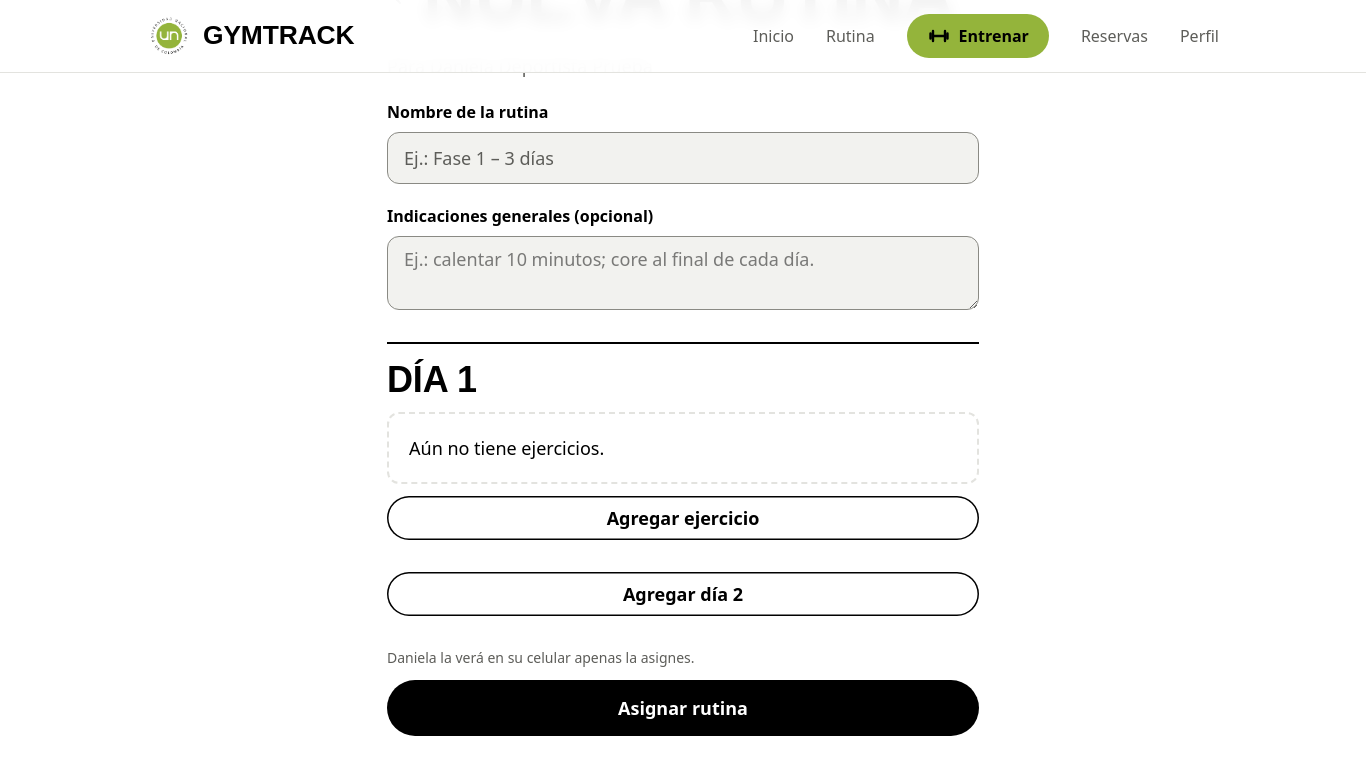
Scenario: armar y asignar una rutina (GYMM-21) › valida antes de enviar: nombre, días vacíos y series fuera de rango
(page scrolled)
Expected: the field labelled "Nombre de la rutina" is shown, x1=388 y1=136 x2=978 y2=180
Click the button "Asignar rutina": x=683, y=708 x1=387 y1=680 x2=979 y2=736
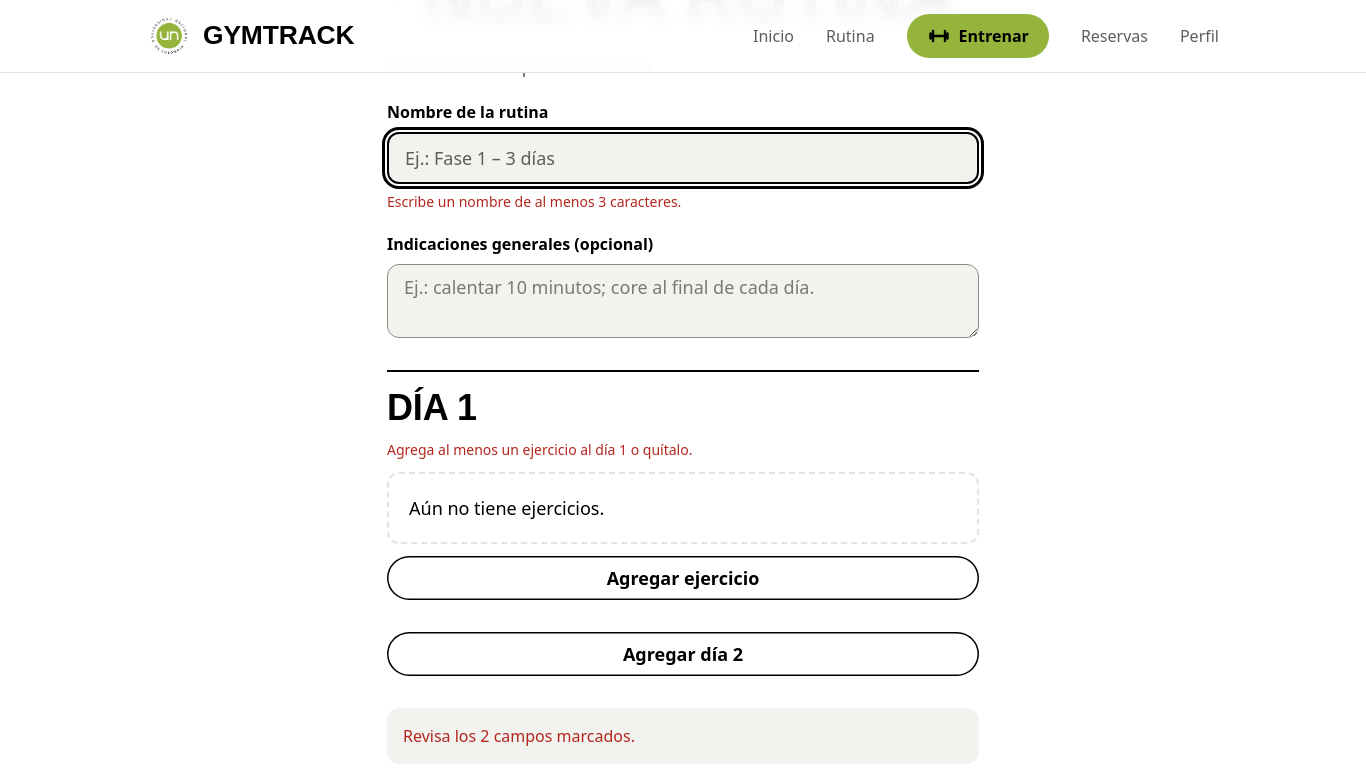
Result: the text "Escribe un nombre de al menos 3 caracteres." is shown at x1=387 y1=192 x2=681 y2=211
Result: the text "Agrega al menos un ejercicio al día 1 o quítalo." is shown at x1=387 y1=440 x2=692 y2=459
In the field labelled "Nombre de la rutina": x=683, y=158 x1=389 y1=136 x2=977 y2=180, type "Fase 1"
Click the button with aria-label "Agregar ejercicio al día 1": x=683, y=578 x1=387 y1=556 x2=979 y2=600
(page scrolled)
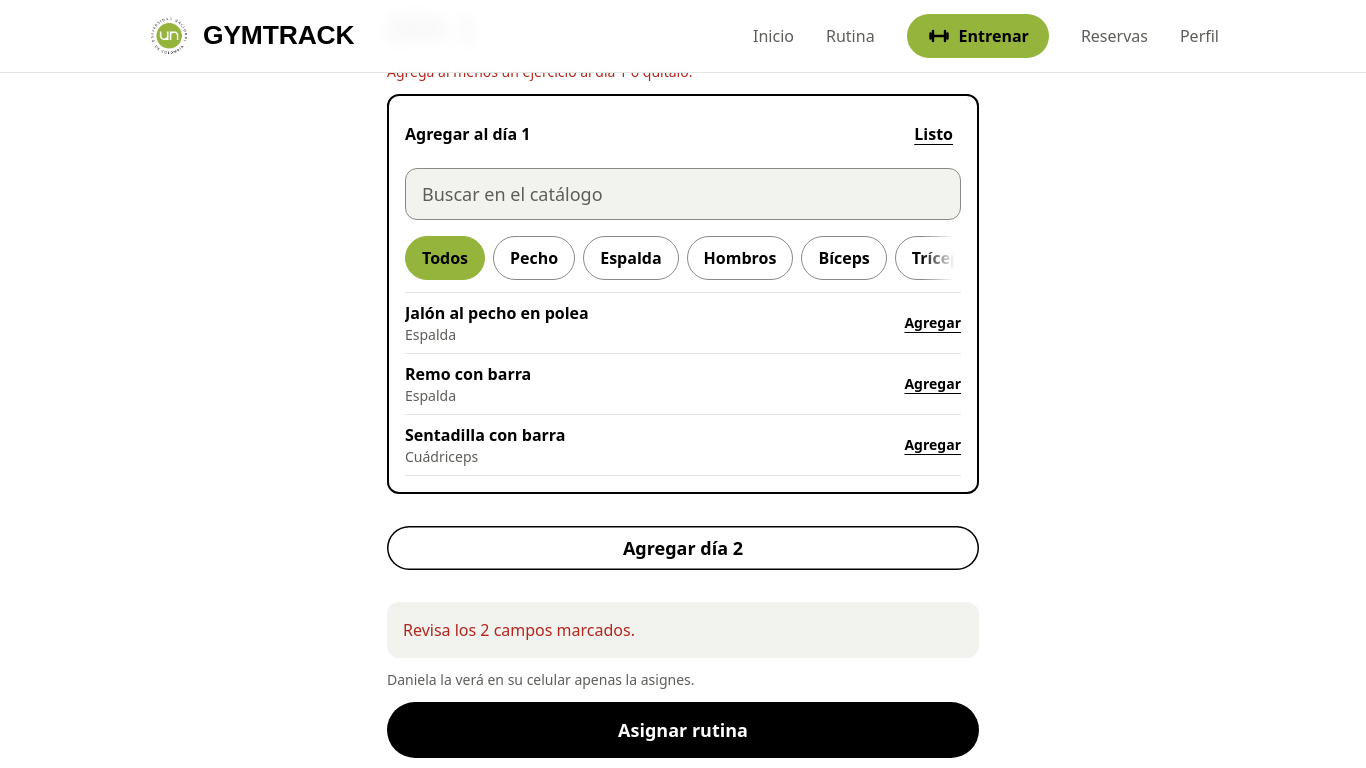
Click the button "Agregar Remo con barra": x=468, y=374 x1=405 y1=354 x2=961 y2=414
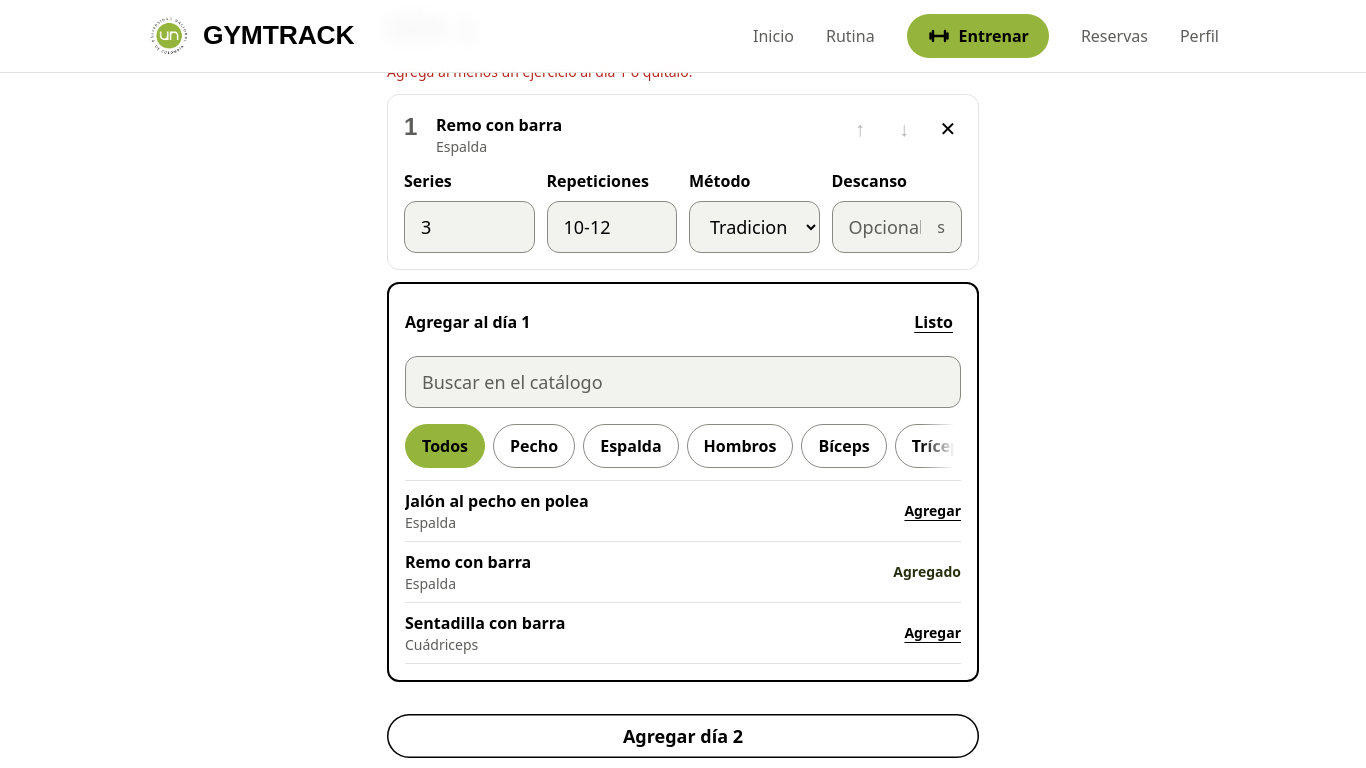
Click the button "Listo": x=934, y=322 x1=906 y1=300 x2=961 y2=344
(page scrolled)
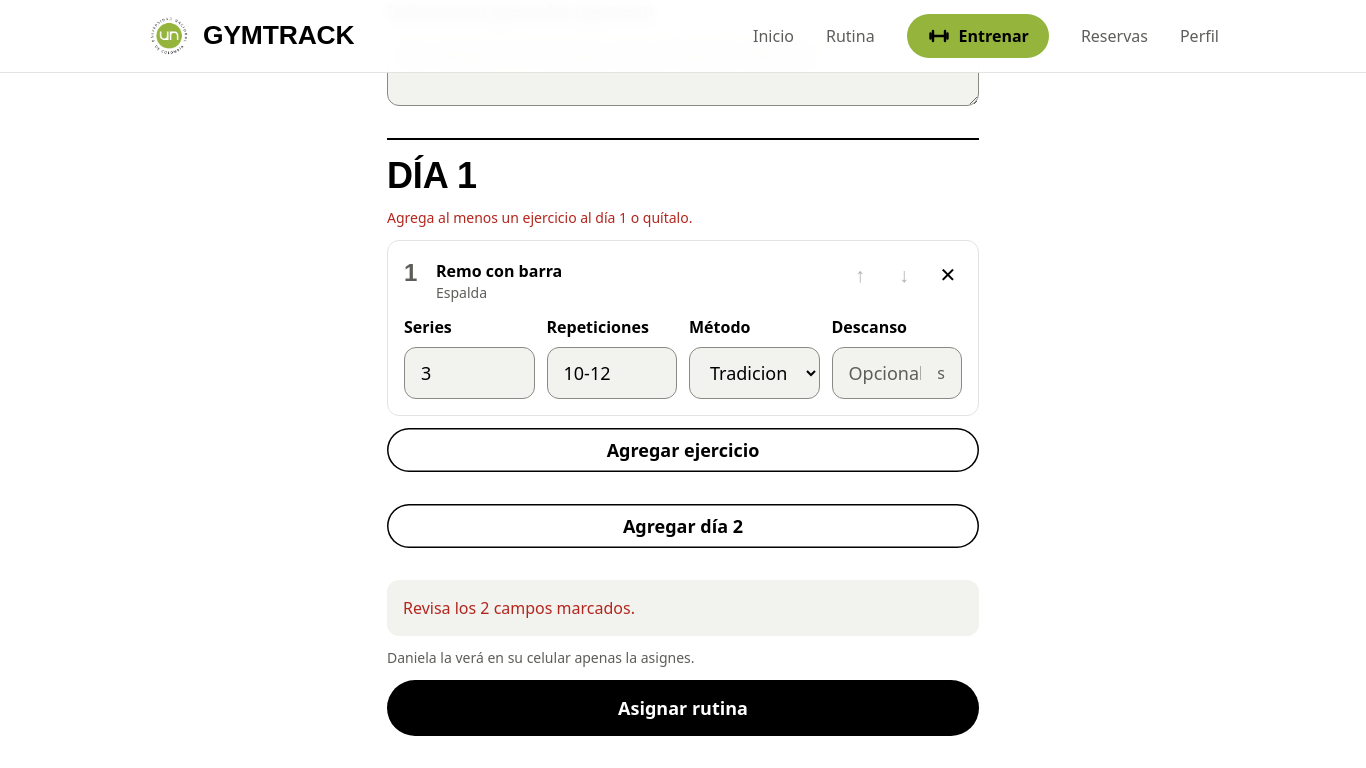
Replace the text in the field named "Series de Remo con barra, día 1" with "0": x=469, y=373 x1=405 y1=351 x2=534 y2=395
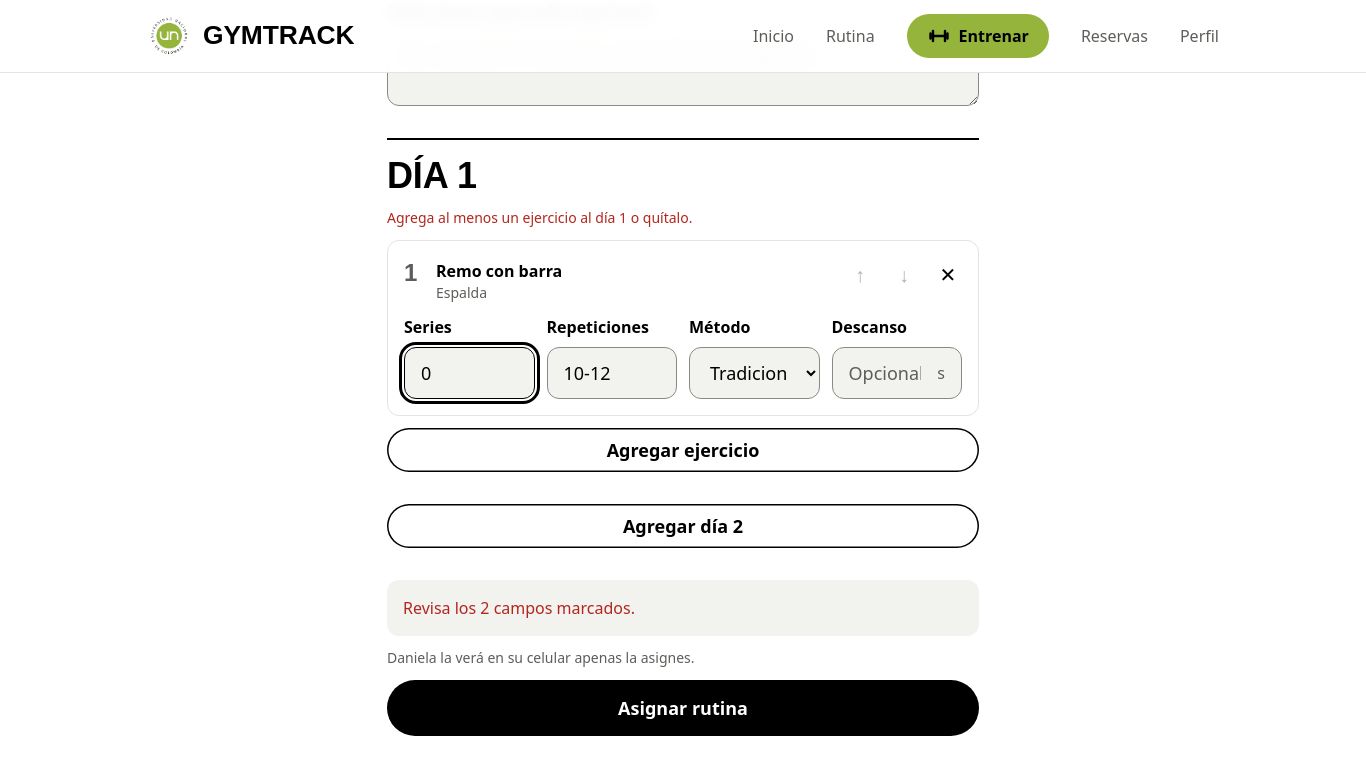
Click the button "Asignar rutina": x=683, y=708 x1=387 y1=680 x2=979 y2=736
(page scrolled)
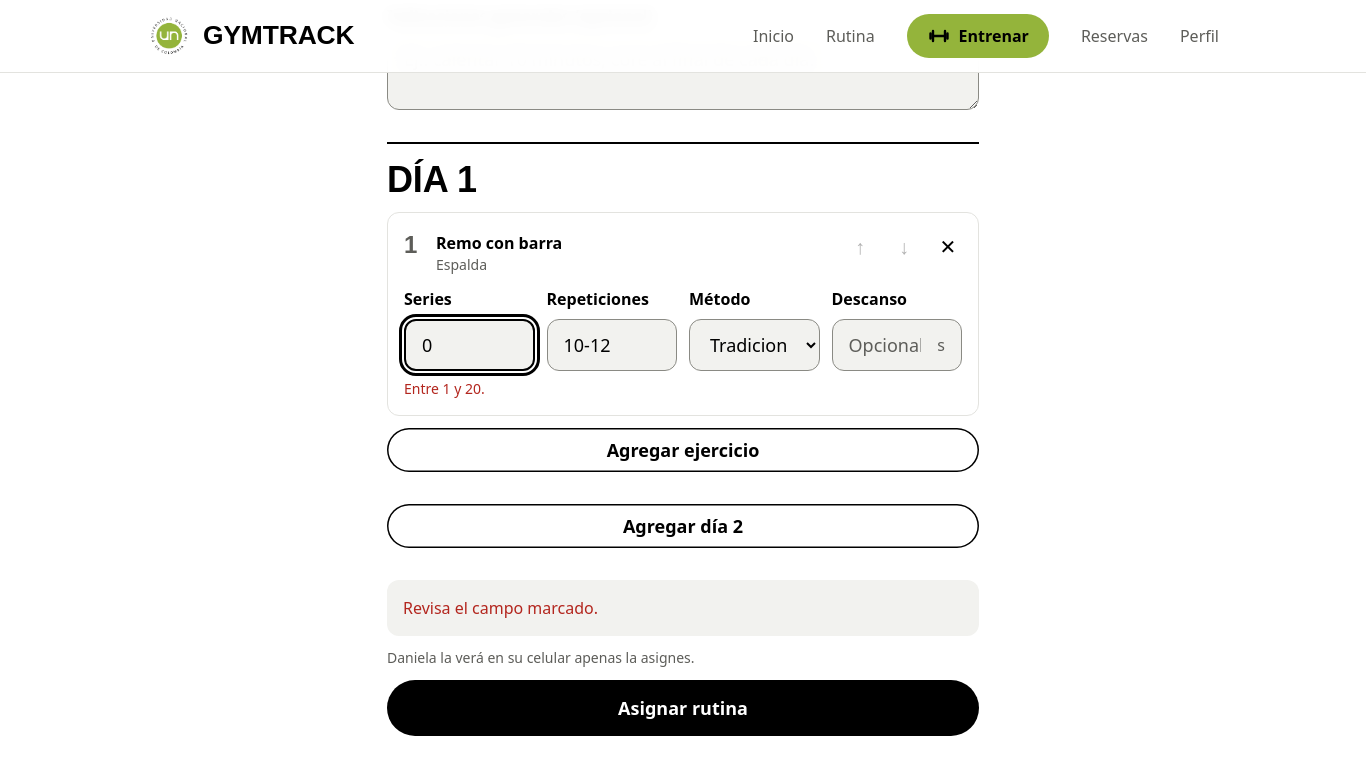
Result: the text "Entre 1 y 20." is shown at x1=404 y1=379 x2=485 y2=398
